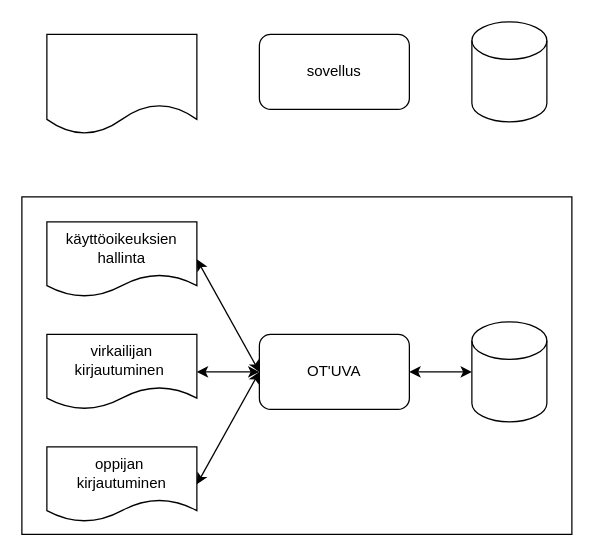
The diagram is 594 pixels wide and 556 high, and some of its shapes have lost their labels. The centre of each missing label's shape, as x and y in pixels:
"selainpohjainen käyttöliittymä" goes at pixel 121 83.
"tietokanta" goes at pixel 509 71.
